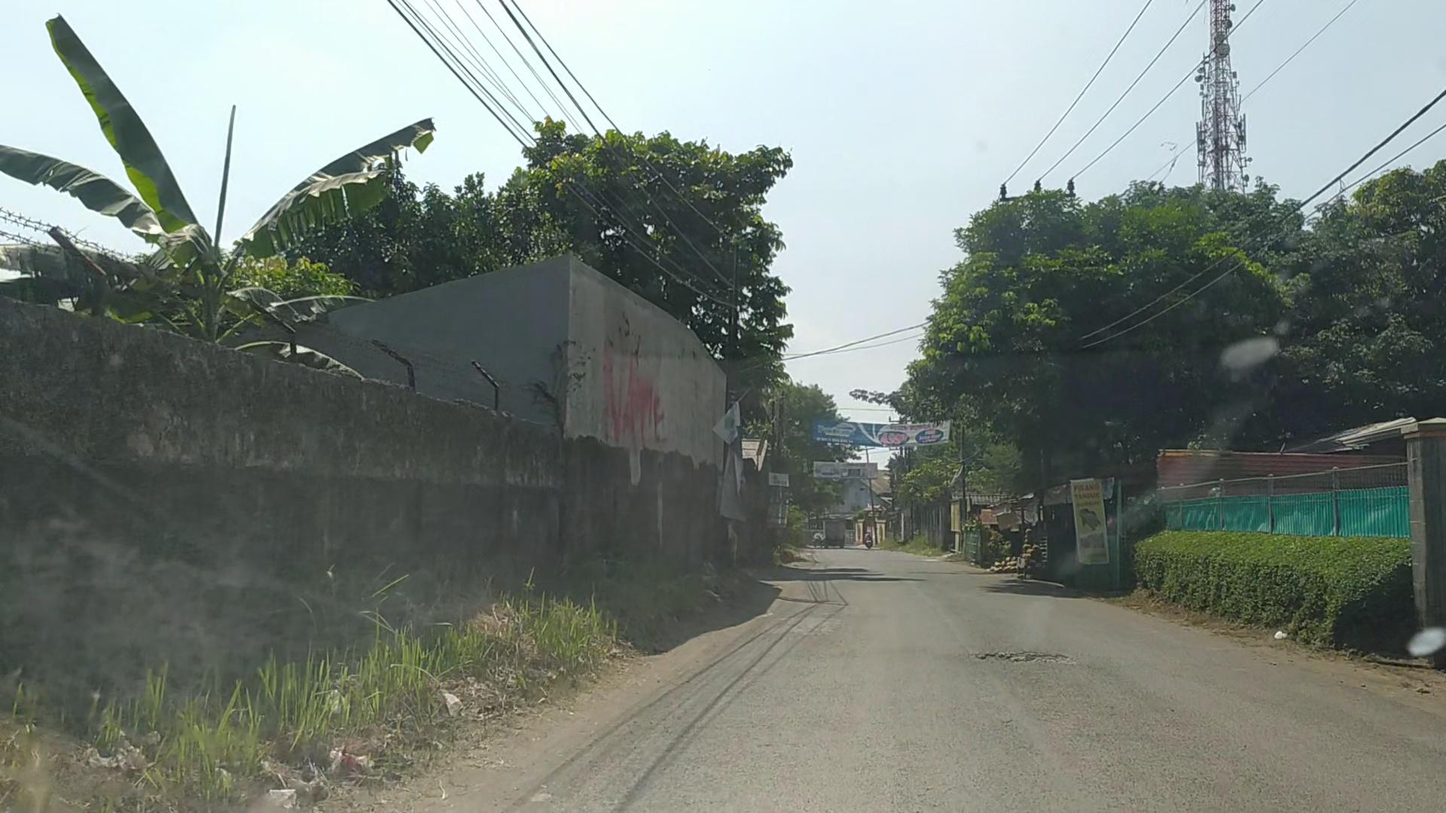pothole: (967, 649, 1075, 665)
